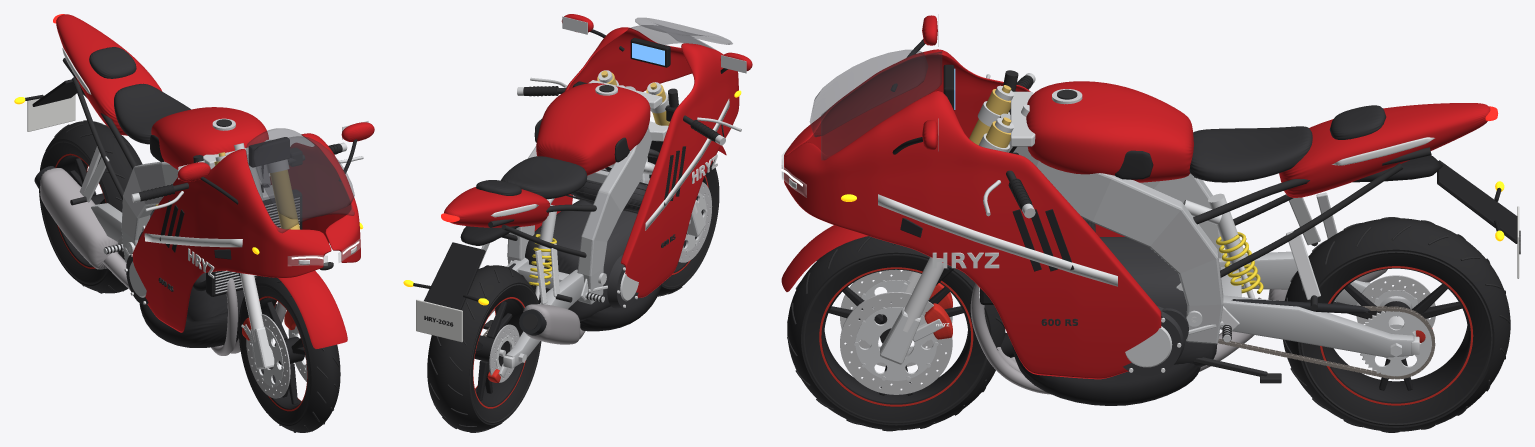
Rendered from moto.glb.
The picture shows the model from 3 angles, left to right: view 1: azimuth 30°, elevation 25°; view 2: azimuth 150°, elevation 25°; view 3: azimuth 270°, elevation 25°; orthographic projection. The views are drawn at different scales.
Parts seen in each view (by area): view 1: Corpo_pintura_vermelha, RodaDianteiraMalha, Corpo_bolha_fume, RodaTraseiraMalha, Corpo_plastico_preto, Corpo_titanio, Corpo_banco, DirecaoMalha, ParaLama, Corpo_quadro_aluminio_escovado, Corpo_aluminio, Corpo_preto_fosco (+6 smaller); view 2: Corpo_pintura_vermelha, RodaTraseiraMalha, Corpo_plastico_preto, Corpo_quadro_aluminio_escovado, Corpo_motor_preto, DirecaoMalha, Corpo_banco, RodaDianteiraMalha, BalancaMalha, Corpo_aluminio, Corpo_preto_fosco, Corpo_bolha_fume (+8 smaller); view 3: Corpo_pintura_vermelha, RodaTraseiraMalha, RodaDianteiraMalha, Corpo_quadro_aluminio_escovado, Corpo_plastico_preto, BalancaMalha, Corpo_bolha_fume, Corpo_banco, Corpo_aluminio, Corpo_motor_preto, DirecaoMalha, Corpo_grafismo_branco (+8 smaller).
Boxes of the visible parts, x1,y1,x2,y2 form: Corpo_pintura_vermelha: [56, 14, 374, 332]; RodaDianteiraMalha: [238, 275, 340, 432]; Corpo_bolha_fume: [246, 128, 354, 232]; RodaTraseiraMalha: [39, 120, 142, 293]; Corpo_plastico_preto: [25, 77, 357, 347]; Corpo_titanio: [40, 168, 286, 355]; Corpo_banco: [89, 47, 190, 144]; DirecaoMalha: [131, 139, 363, 369]; ParaLama: [278, 270, 347, 348]; Corpo_quadro_aluminio_escovado: [121, 158, 270, 262]; Corpo_aluminio: [79, 118, 299, 297]; Corpo_preto_fosco: [62, 58, 333, 291]; Corpo_pintura_vermelha: [444, 14, 752, 297]; RodaTraseiraMalha: [427, 265, 541, 432]; Corpo_plastico_preto: [413, 29, 727, 331]; Corpo_quadro_aluminio_escovado: [507, 86, 651, 304]; Corpo_motor_preto: [525, 148, 659, 321]; DirecaoMalha: [517, 77, 741, 236]; Corpo_banco: [476, 156, 587, 199]; RodaDianteiraMalha: [657, 161, 719, 296]; BalancaMalha: [487, 257, 584, 382]; Corpo_aluminio: [478, 84, 654, 304]; Corpo_preto_fosco: [424, 85, 675, 329]; Corpo_bolha_fume: [628, 18, 732, 49]; Corpo_pintura_vermelha: [784, 15, 1490, 379]; RodaTraseiraMalha: [1283, 217, 1510, 432]; RodaDianteiraMalha: [787, 236, 1005, 431]; Corpo_quadro_aluminio_escovado: [999, 113, 1223, 344]; Corpo_plastico_preto: [891, 39, 1517, 405]; BalancaMalha: [1218, 251, 1432, 357]; Corpo_bolha_fume: [810, 50, 942, 159]; Corpo_banco: [1189, 105, 1386, 182]; Corpo_aluminio: [979, 89, 1337, 367]; Corpo_motor_preto: [1084, 218, 1217, 375]; DirecaoMalha: [881, 70, 1035, 315]; Corpo_grafismo_branco: [878, 137, 1434, 286].
Bounding box in the file's own units: 0.9011 × 1.13 × 2.03.
